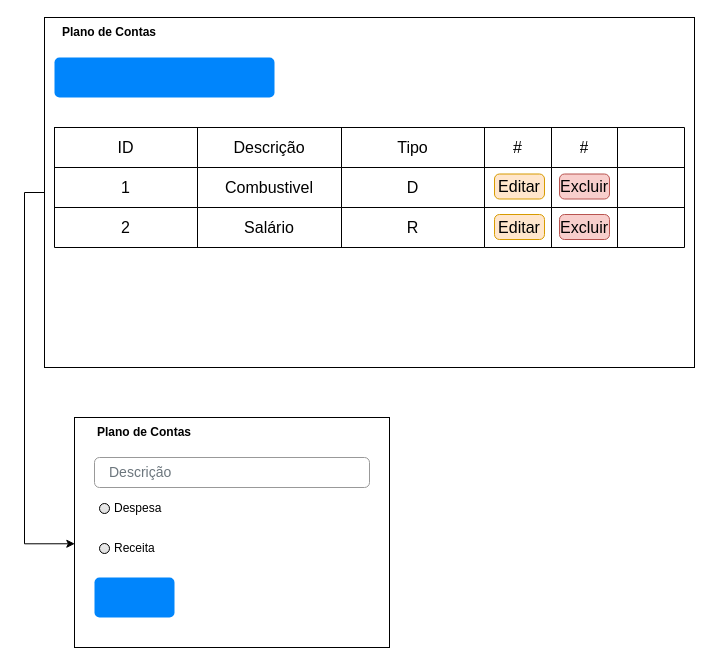
This 712x665 diagram has some shape labels left out. The shapes that lost their labels are listed below. From the top down, each one's centre as x and y in pixels, then its label:
(x=164, y=77): Criar Item de Plano de Conta
(x=134, y=597): Registrar
